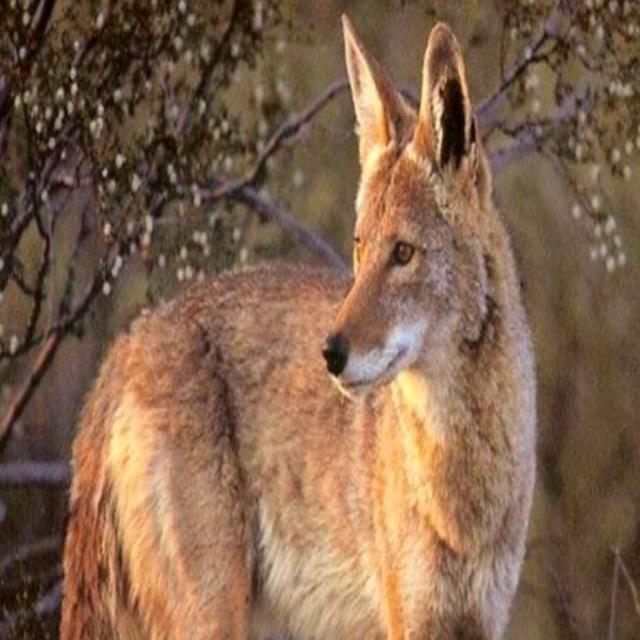coyote: (60, 15, 536, 639)
